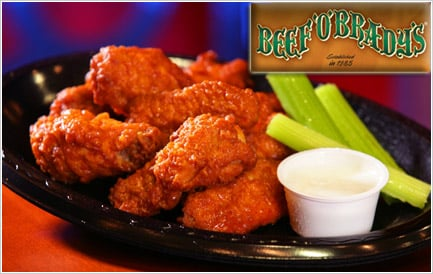sushi: (277, 147, 390, 238)
